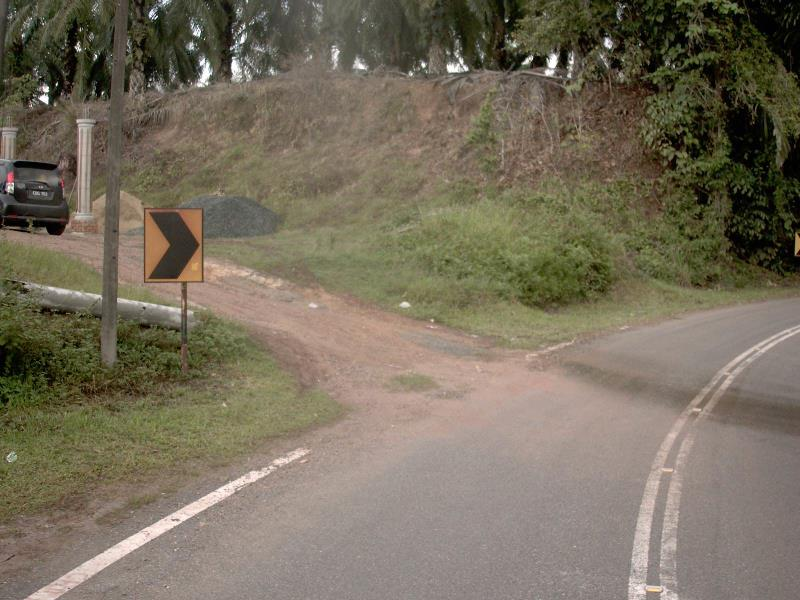traffic_sign: (136, 197, 217, 295)
